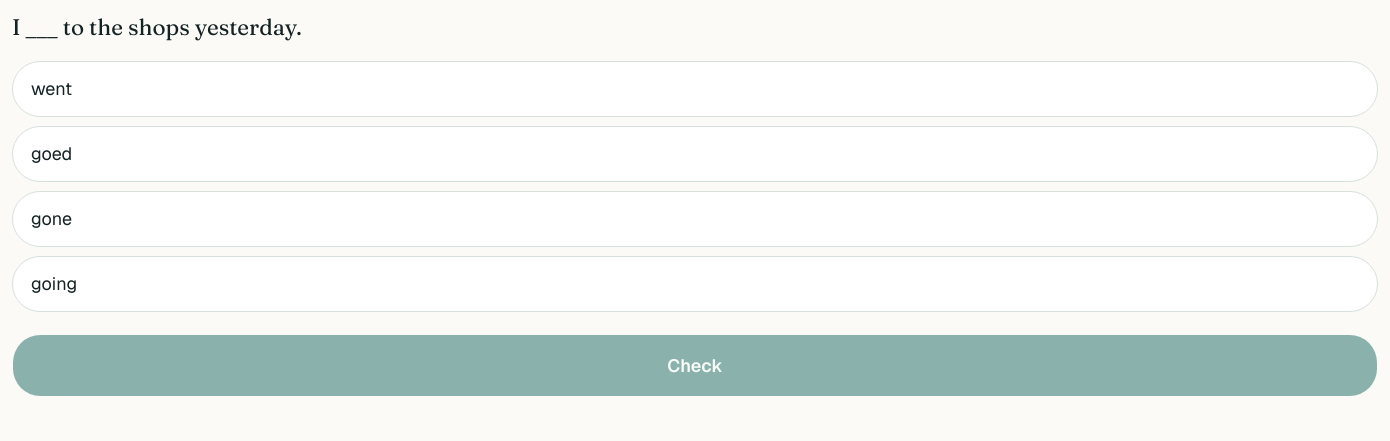
the feedback state machine › sends exactly one request, carrying the tapped option and a latency
Click the button "goed": point(52, 154) x1=12 y1=126 x2=1378 y2=182
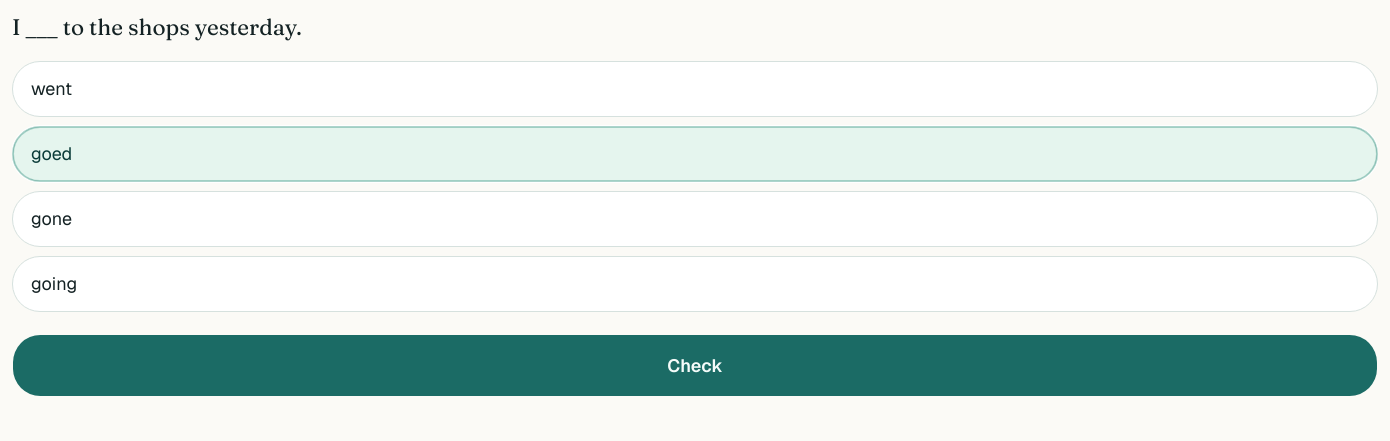
Click the button "Check": point(695, 366) x1=12 y1=334 x2=1378 y2=397
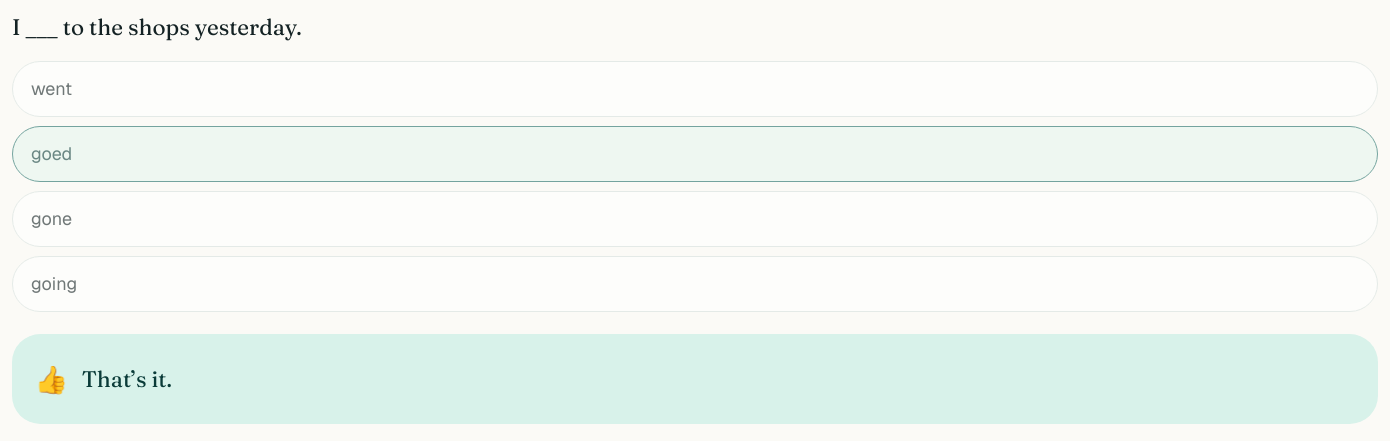
Expected: the button "goed" is shown, x1=12 y1=126 x2=1378 y2=182
Expected: the element with test id "feedback" is shown, x1=12 y1=334 x2=1378 y2=424
